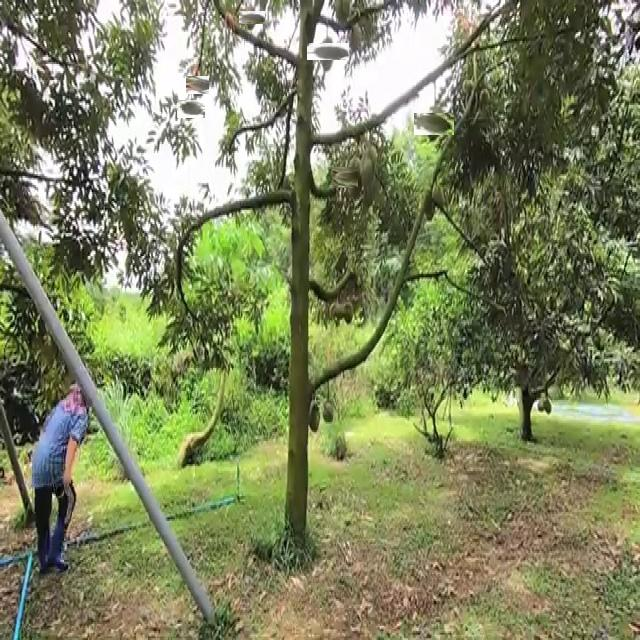durian: (358, 141, 384, 208), (338, 160, 372, 194), (419, 108, 450, 140), (313, 36, 343, 66), (179, 98, 203, 121), (309, 396, 322, 435), (187, 74, 208, 95), (320, 400, 334, 430), (242, 7, 262, 27)
